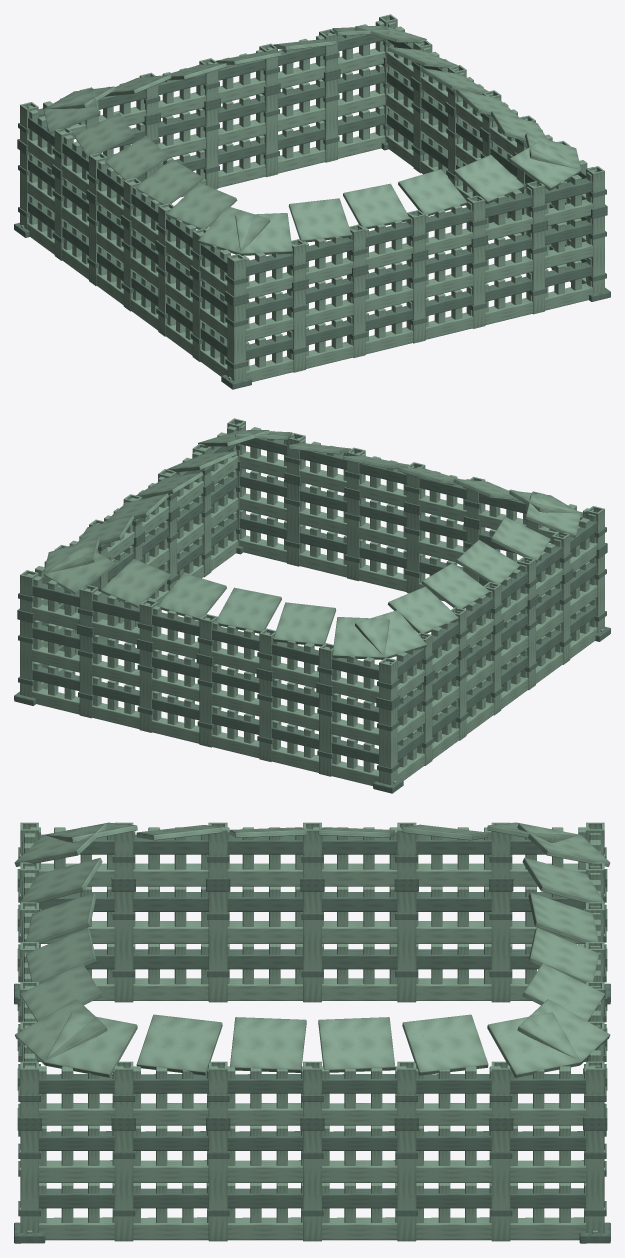
The picture shows the model from 3 angles, top to bottom: view 1: azimuth 30°, elevation 25°; view 2: azimuth 150°, elevation 25°; view 3: azimuth 270°, elevation 25°; orthographic projection. The views are drawn at different scales.
Parts seen in each view (by area): view 1: Crown alloy petal 0-1, Crown alloy petal 0-2, Crown alloy petal 0-3, Crown alloy petal 0-4, Crown alloy petal 3-4, Crown alloy petal 0-0, Crown alloy petal 3-3, Crown alloy petal 3-5, Crown alloy petal 0-5, Crown alloy petal 3-2, Crown alloy petal 3-1, Tier 0 side 0 post 0 (+89 smaller); view 2: Crown alloy petal 2-4, Crown alloy petal 2-3, Crown alloy petal 2-2, Crown alloy petal 2-1, Crown alloy petal 3-1, Crown alloy petal 2-5, Crown alloy petal 3-2, Crown alloy petal 3-0, Crown alloy petal 2-0, Crown alloy petal 3-3, Crown alloy petal 3-4, Tier 0 side 3 post 0 (+89 smaller); view 3: Crown alloy petal 1-4, Crown alloy petal 1-1, Crown alloy petal 1-3, Crown alloy petal 1-2, Crown alloy petal 1-5, Crown alloy petal 1-0, Crown alloy petal 0-5, Crown alloy petal 2-0, Crown alloy petal 2-1, Crown alloy petal 0-4, Crown alloy petal 2-2, Crown alloy petal 0-3 (+102 smaller).
Boxes of the visible parts, x1,y1,x2,y2 form: Crown alloy petal 0-1: (288,198,351,242); Crown alloy petal 0-2: (343,183,409,228); Crown alloy petal 0-3: (398,169,467,215); Crown alloy petal 0-4: (453,155,524,203); Crown alloy petal 3-4: (166,182,237,229); Crown alloy petal 0-0: (235,213,292,255); Crown alloy petal 3-3: (135,159,203,204); Crown alloy petal 3-5: (198,206,270,254); Crown alloy petal 0-5: (509,140,581,190); Crown alloy petal 3-2: (104,136,168,180); Crown alloy petal 3-1: (74,112,134,158); Tier 0 side 0 post 0: (227,302,245,381); Crown alloy petal 2-4: (273,602,336,646); Crown alloy petal 2-3: (215,587,281,633); Crown alloy petal 2-2: (157,573,226,620); Crown alloy petal 2-1: (100,559,171,607); Crown alloy petal 3-1: (387,586,458,633); Crown alloy petal 2-5: (332,617,389,659); Crown alloy petal 3-2: (421,563,489,608); Crown alloy petal 3-0: (354,610,426,658); Crown alloy petal 2-0: (44,544,115,594); Crown alloy petal 3-3: (456,540,520,584); Crown alloy petal 3-4: (490,516,550,562); Tier 0 side 3 post 0: (379,706,397,785); Crown alloy petal 1-4: (402,1014,488,1075); Crown alloy petal 1-1: (136,1014,222,1075); Crown alloy petal 1-3: (318,1017,395,1072); Crown alloy petal 1-2: (230,1017,306,1072); Crown alloy petal 1-5: (487,1012,580,1077); Crown alloy petal 1-0: (44,1012,137,1077); Crown alloy petal 0-5: (15,999,107,1064); Crown alloy petal 2-0: (517,999,610,1064); Crown alloy petal 2-1: (522,963,604,1021); Crown alloy petal 0-4: (20,963,102,1021); Crown alloy petal 2-2: (528,927,598,983); Crown alloy petal 0-3: (26,927,96,984).
Size of the model in its own units: 2.85 by 1.02 by 2.85.
2 materials, 2 textured.
